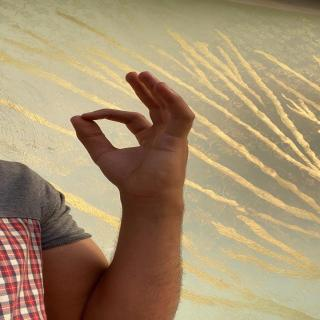Space: (64, 65, 204, 187)
